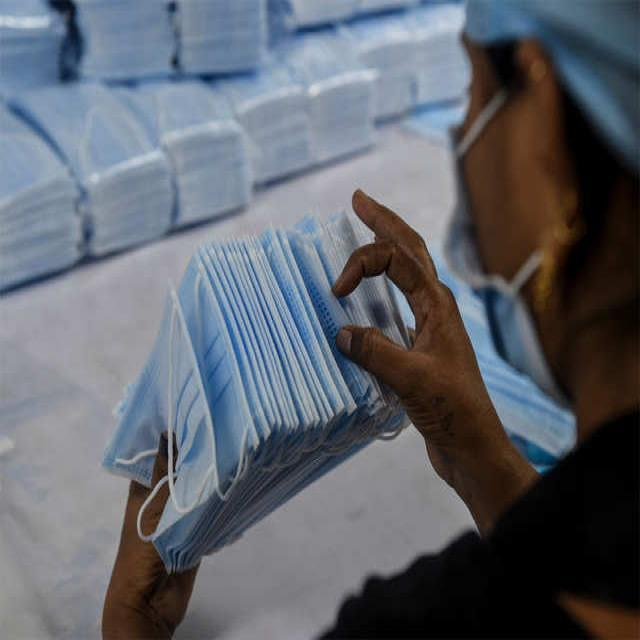face mask: (100, 240, 387, 560)
